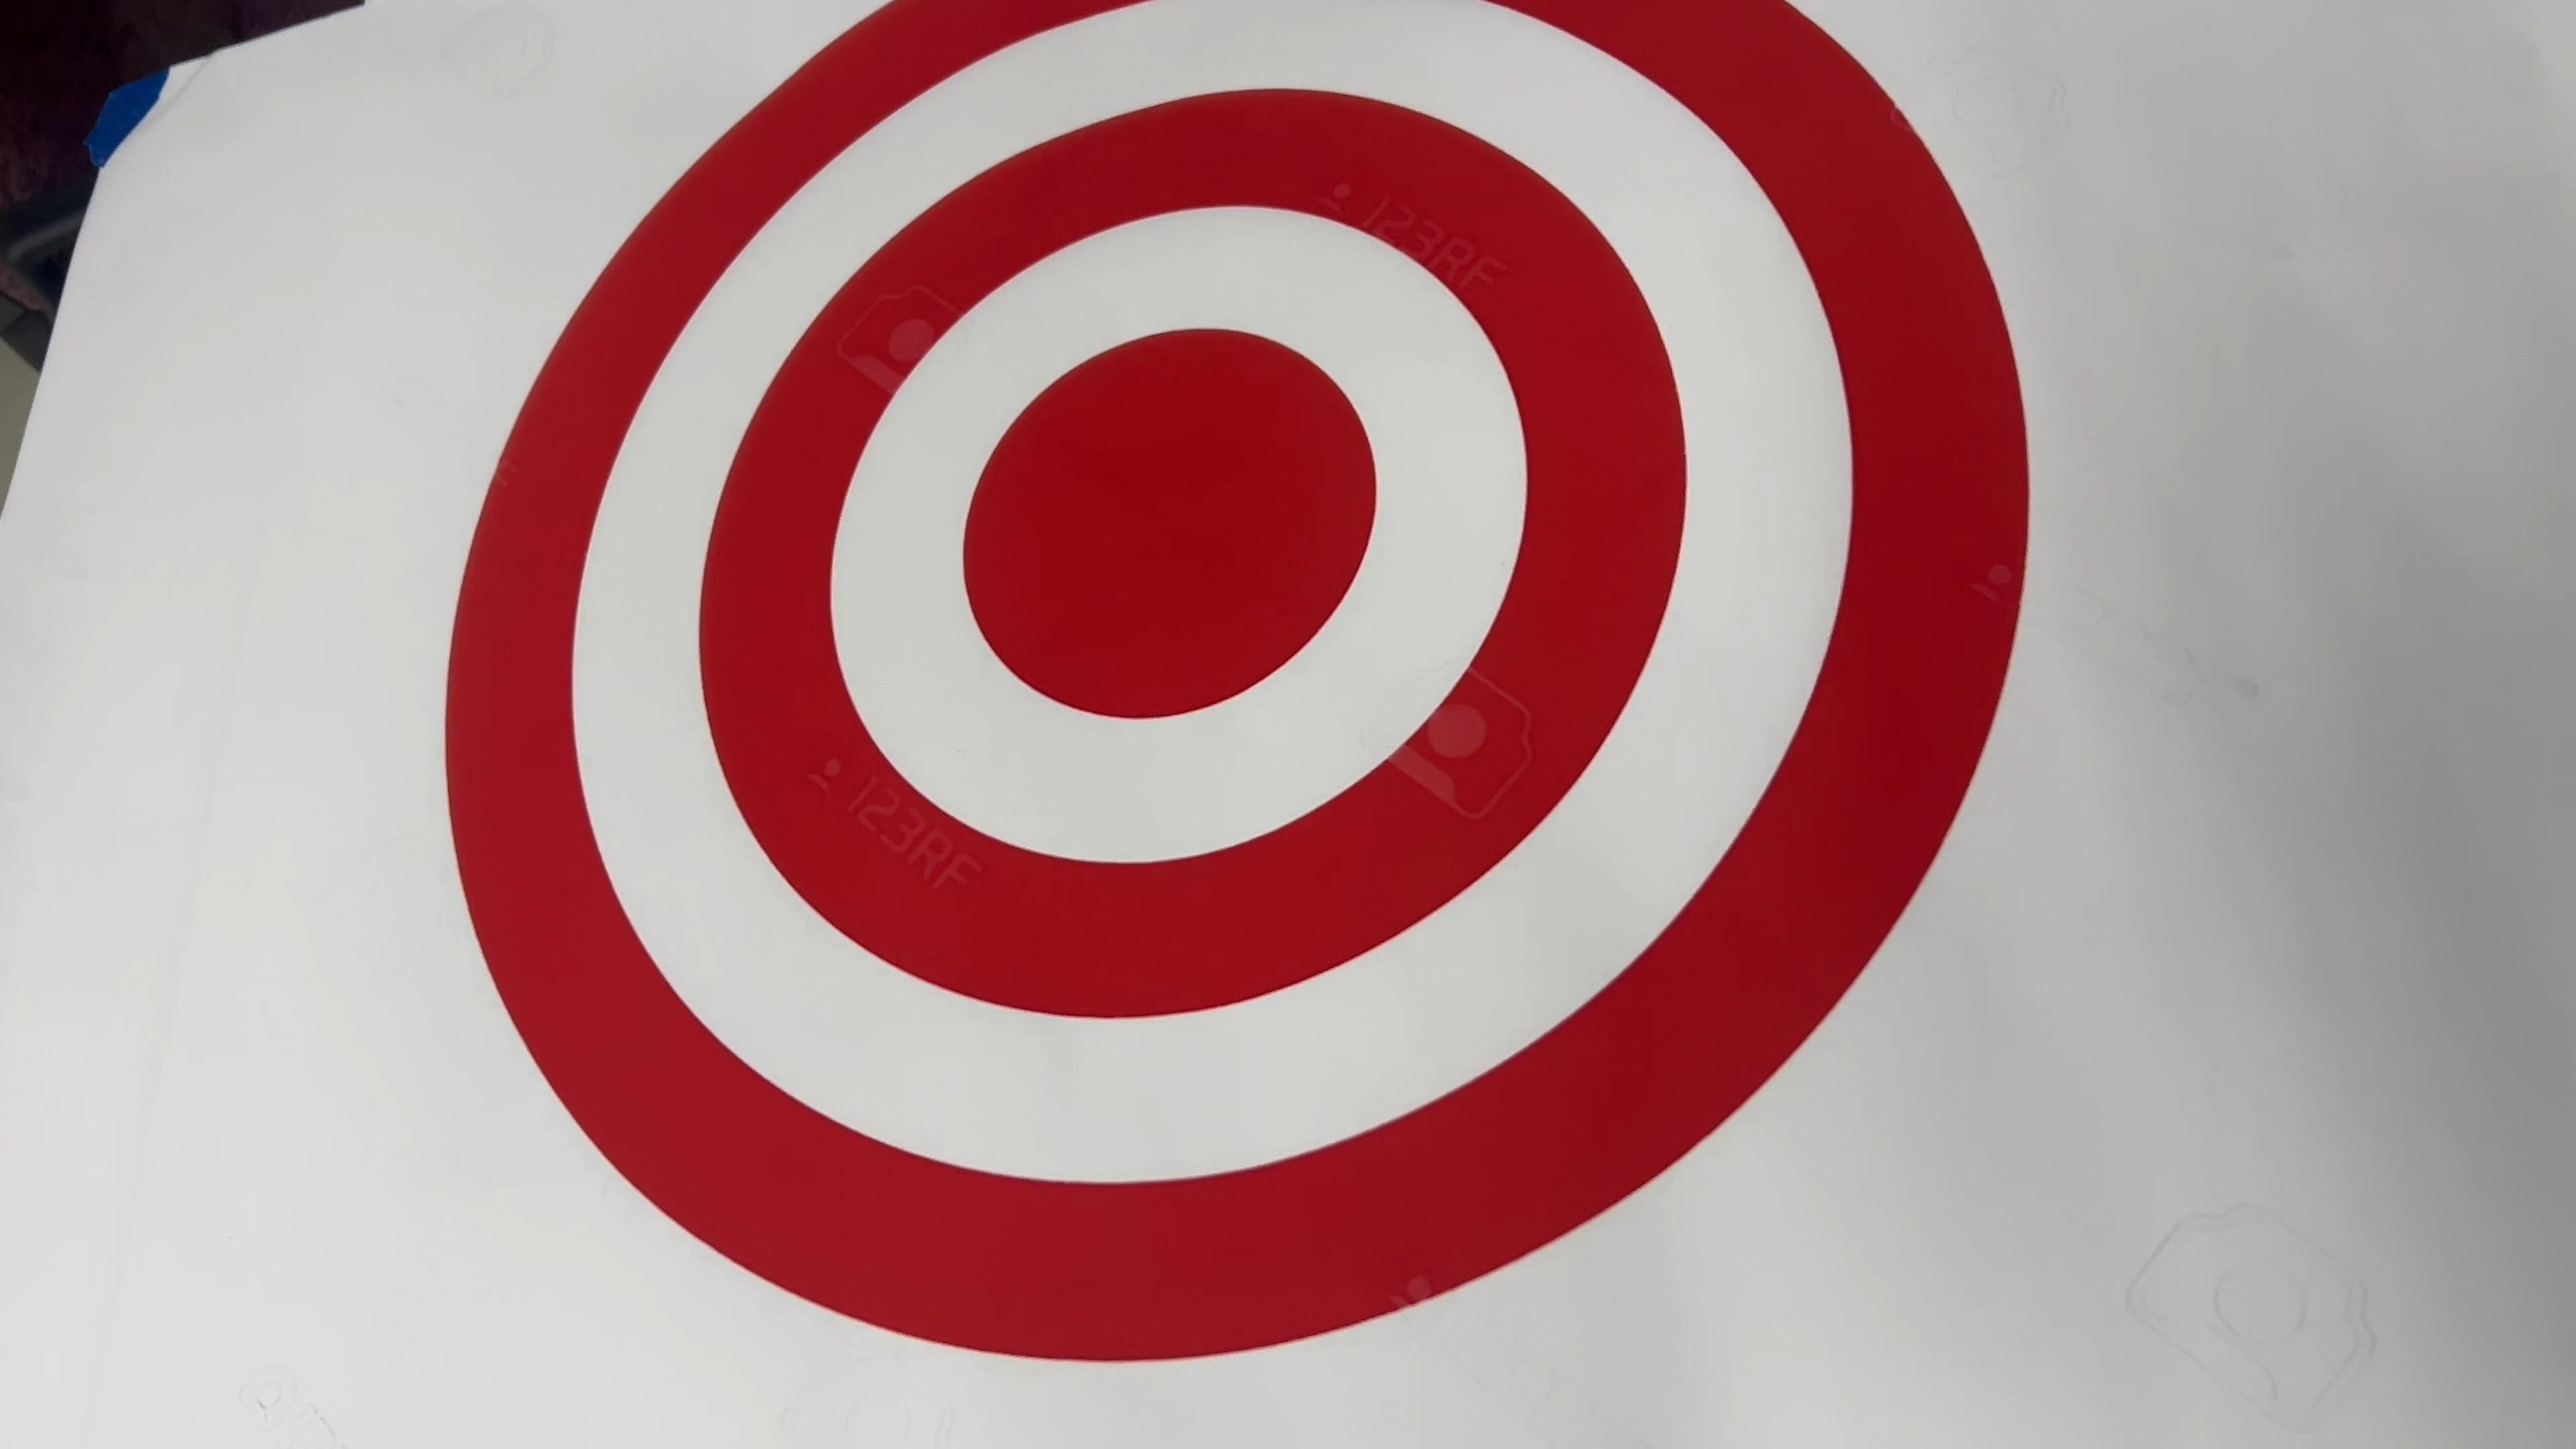target_red: (391, 18, 2084, 1338)
